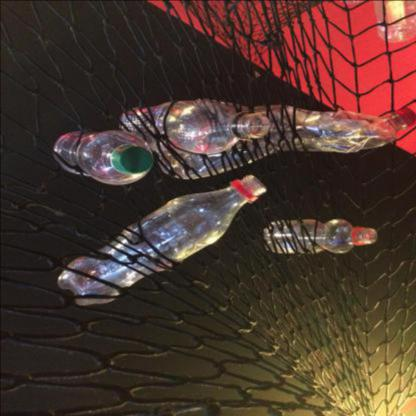Bottle: (113, 145, 153, 174)
Bottle cap: (58, 175, 266, 305), (155, 98, 411, 179), (118, 100, 270, 154), (52, 130, 154, 185), (263, 219, 377, 253), (372, 1, 416, 43)
